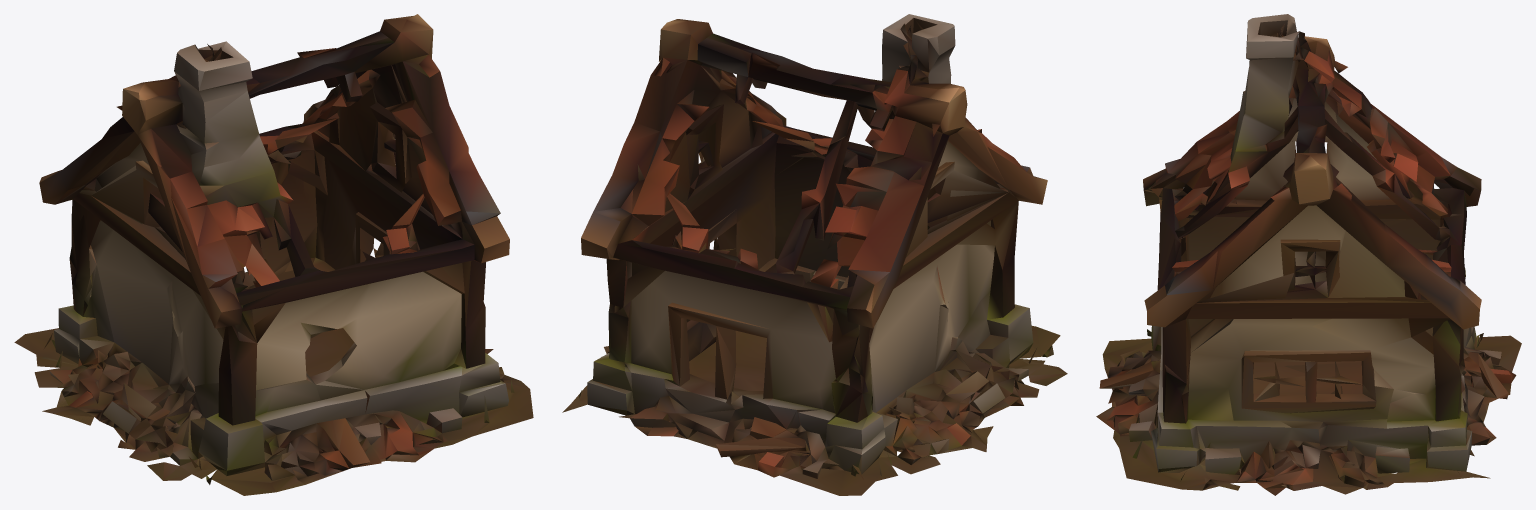
Rendered from house_ruin.lod2.glb.
3 views of the same model, side by side, from view 1: azimuth 30°, elevation 25°; view 2: azimuth 150°, elevation 25°; view 3: azimuth 270°, elevation 25° (orthographic). The views are drawn at different scales.
Visible parts, largest first — view 1: Mesh_0; view 2: Mesh_0; view 3: Mesh_0.
Part boxes in pixels (x1=…): Mesh_0: x1=14, y1=14, x2=533, y2=495; Mesh_0: x1=562, y1=14, x2=1067, y2=495; Mesh_0: x1=1096, y1=14, x2=1521, y2=495.
Size of the model in its own units: 1.89 by 1.66 by 1.86.
